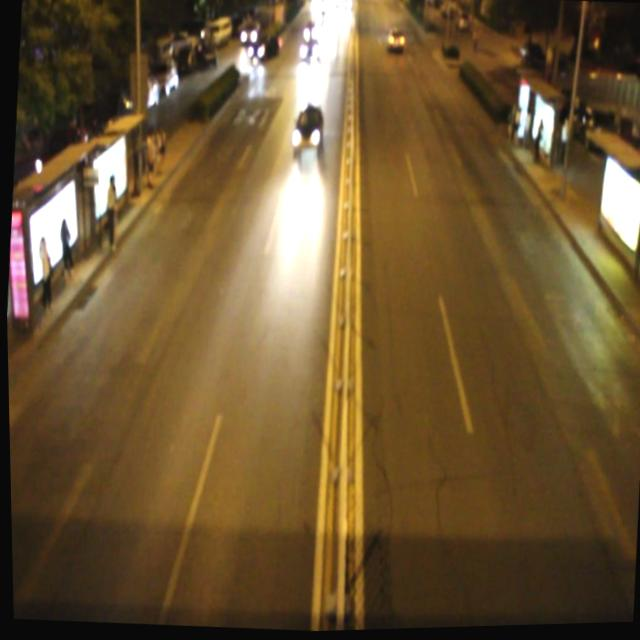car: (289, 104, 324, 158)
